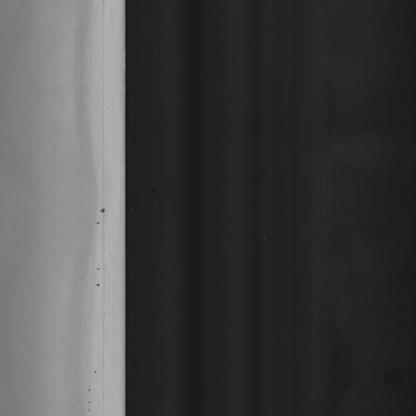oil_spot: (97, 189, 109, 228), (92, 274, 108, 296)
